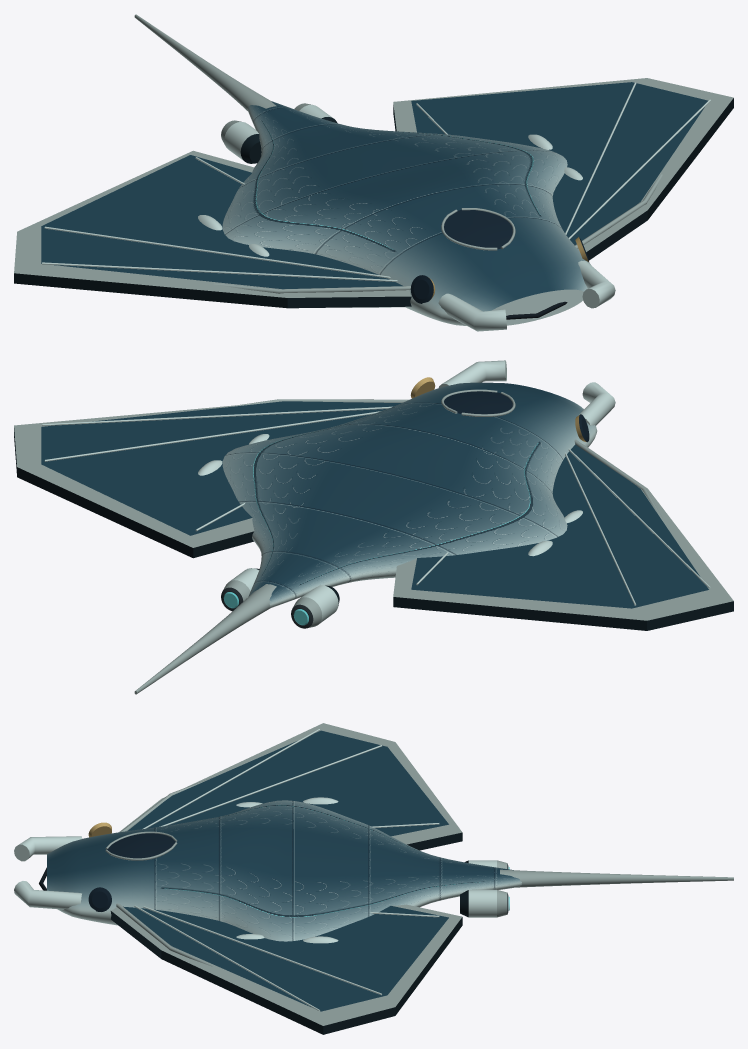
Rendered from manta_ray.glb.
3 views of the same model, one above another, from view 1: azimuth 30°, elevation 25°; view 2: azimuth 150°, elevation 25°; view 3: azimuth 270°, elevation 25° (orthographic). The views are drawn at different scales.
Parts seen in each view (by area): view 1: manta_ray_hull; view 2: manta_ray_hull; view 3: manta_ray_hull.
Part boxes in pixels (box(x1,y1,x2,y2)): manta_ray_hull: box(14, 14, 733, 331); manta_ray_hull: box(14, 360, 733, 694); manta_ray_hull: box(14, 723, 733, 1034).
Bounding box in the file's own units: 255 × 28.67 × 256.
Materials: 1 (1 with a texture image).
